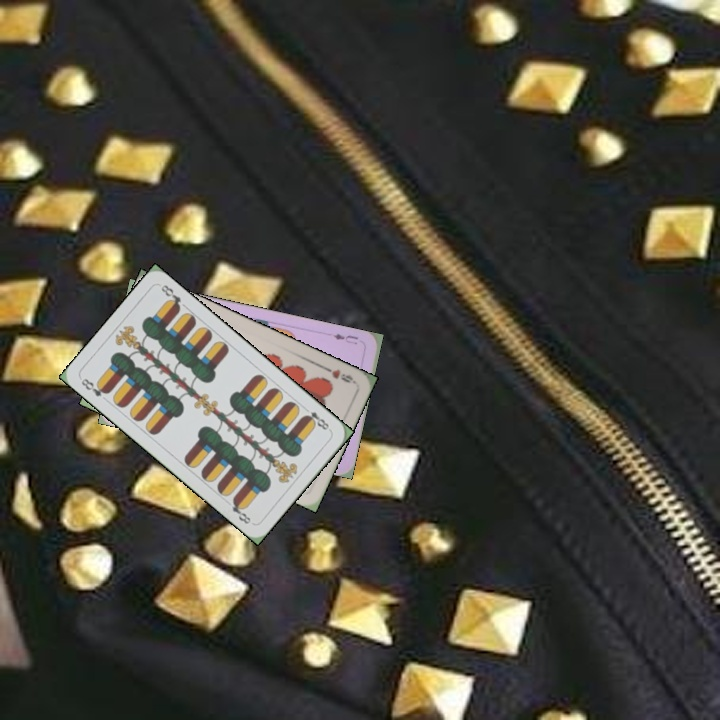E8: (299, 403, 333, 434), (77, 374, 112, 399)
EU: (329, 329, 360, 347)
H9: (319, 363, 358, 386)
